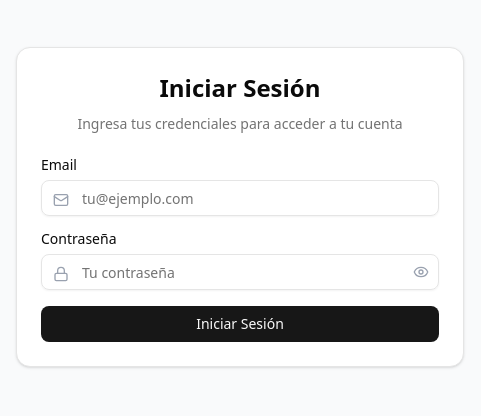
Login › muestra mensaje de error si login falla
The width and height of the screenshot is (481, 416).
Type "test@mail.com" into the field labelled "Email" at (240, 198), box left=41, top=180, right=439, bottom=216
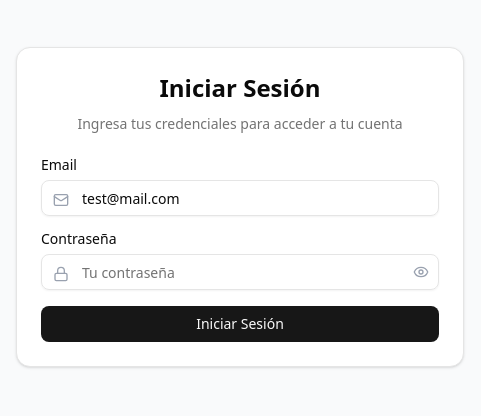
Type "Password1" into the password field labelled "Contraseña" at (240, 272), box left=41, top=254, right=439, bottom=290
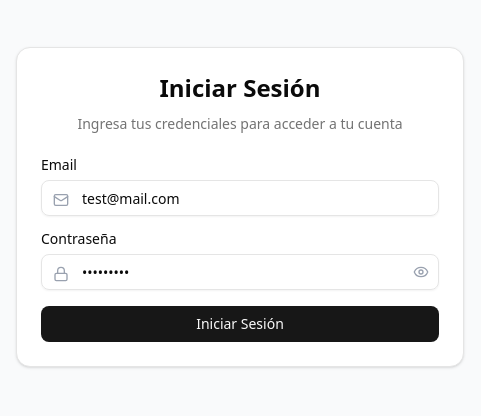
Click the button "Iniciar Sesión" at (240, 324), box left=41, top=306, right=439, bottom=342
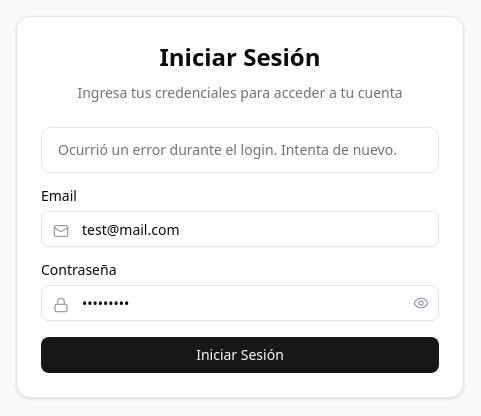
Result: the text "Ocurrió un error durante el login. Intenta de nuevo." is shown at left=58, top=140, right=422, bottom=160
